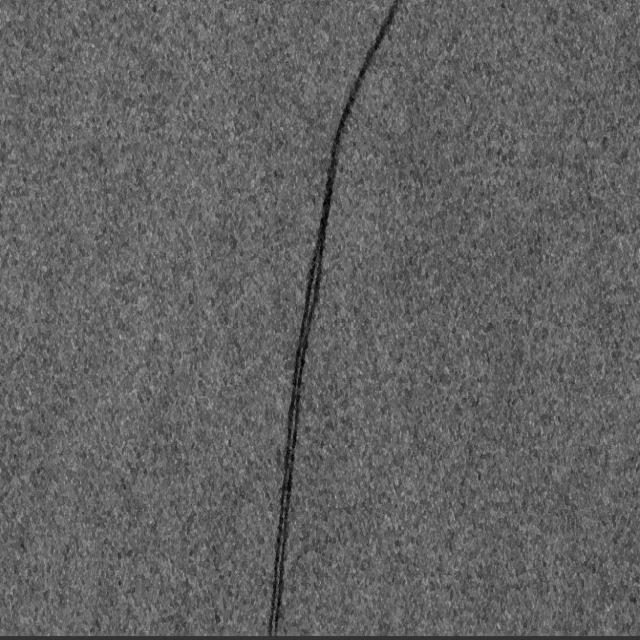oil-spill: (261, 145, 345, 630), (332, 1, 404, 152)
